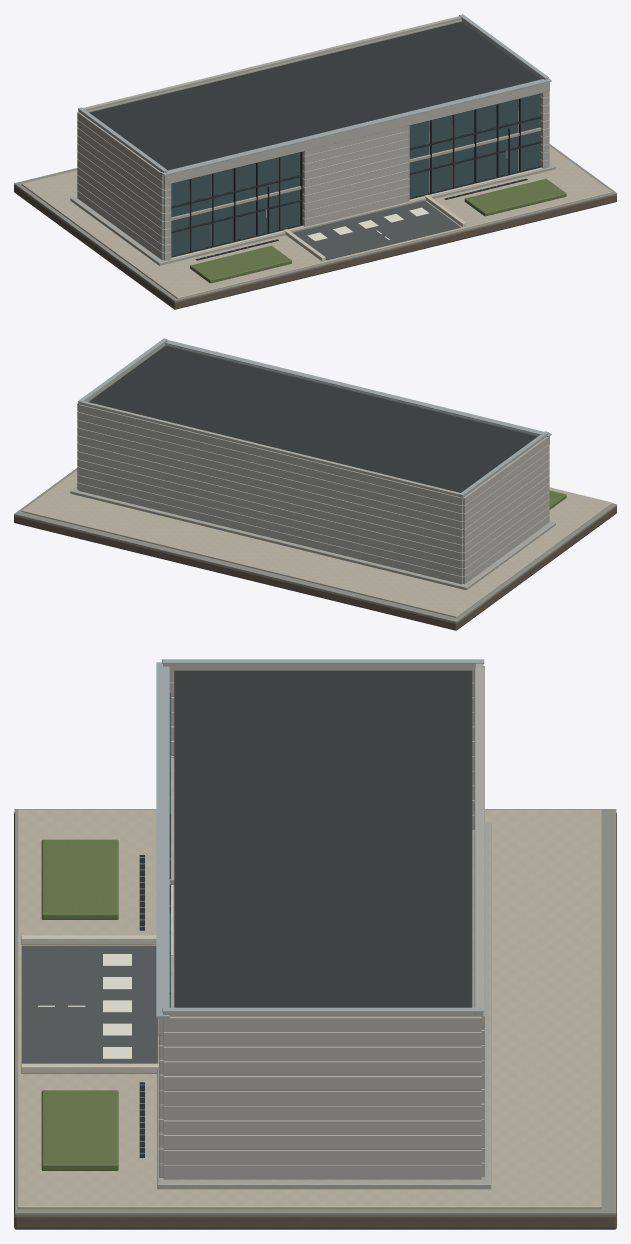
The model's file is industriale-DjOReKRs.glb.
3 renders of one model, top to bottom at view 1: azimuth 30°, elevation 25°; view 2: azimuth 150°, elevation 25°; view 3: azimuth 270°, elevation 25°, orthographic. The views are drawn at different scales.
Parts seen in each view (by area): view 1: phase_finish__membrane, phase_envelope__industrial_panel, phase_envelope__glass, phase_foundation__paving, phase_site__soil, phase_finish__asphalt, phase_finish__graphite, phase_finish__grass, phase_details__metal, phase_finish__industrial_panel, phase_foundation__gravel, phase_foundation__concrete (+4 smaller); view 2: phase_envelope__industrial_panel, phase_finish__membrane, phase_foundation__paving, phase_site__soil, phase_foundation__gravel, phase_details__metal, phase_foundation__concrete, phase_finish__industrial_panel; view 3: phase_finish__membrane, phase_foundation__paving, phase_envelope__industrial_panel, phase_finish__asphalt, phase_finish__grass, phase_foundation__gravel, phase_site__soil, phase_details__metal, phase_foundation__concrete, phase_finish__industrial_panel, phase_finish__limestone, phase_details__white (+1 smaller).
Boxes of the visible parts, x1,y1,x2,y2 form: phase_finish__membrane: (89, 21, 539, 170); phase_envelope__industrial_panel: (77, 20, 549, 260); phase_envelope__glass: (171, 94, 540, 255); phase_foundation__paving: (21, 146, 612, 299); phase_site__soil: (14, 185, 616, 309); phase_finish__asphalt: (292, 200, 460, 260); phase_finish__graphite: (171, 93, 541, 257); phase_finish__grass: (190, 178, 566, 283); phase_details__metal: (78, 14, 551, 258); phase_finish__industrial_panel: (78, 16, 548, 172); phase_foundation__gravel: (14, 144, 616, 301); phase_foundation__concrete: (70, 149, 555, 265); phase_envelope__industrial_panel: (77, 344, 549, 584); phase_finish__membrane: (88, 345, 537, 492); phase_foundation__paving: (21, 470, 612, 617); phase_site__soil: (14, 506, 616, 630); phase_foundation__gravel: (14, 468, 616, 622); phase_details__metal: (78, 338, 551, 495); phase_foundation__concrete: (70, 486, 555, 590); phase_finish__industrial_panel: (78, 340, 548, 500); phase_finish__membrane: (174, 670, 472, 1007); phase_foundation__paving: (17, 809, 601, 1209); phase_envelope__industrial_panel: (158, 666, 484, 1179); phase_finish__asphalt: (21, 945, 157, 1063); phase_finish__grass: (41, 839, 118, 1170); phase_foundation__gravel: (14, 809, 616, 1215); phase_site__soil: (14, 812, 616, 1229); phase_details__metal: (139, 659, 484, 1153); phase_foundation__concrete: (157, 822, 491, 1189); phase_finish__industrial_panel: (163, 663, 483, 1022); phase_finish__limestone: (21, 885, 173, 1073); phase_details__white: (38, 954, 131, 1058).
Bounding box in the file's own units: 16.2 × 3.61 × 10.2.
13 materials, 5 textured.
